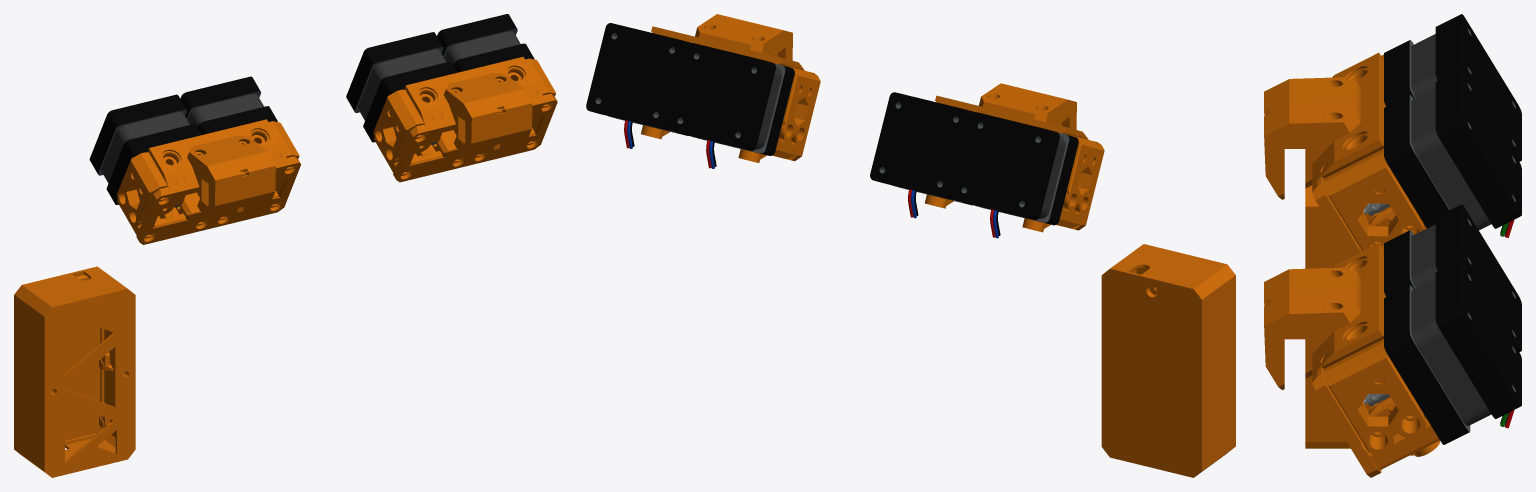
The model's file is MK2MMU_Base.obj.
3 views of the same model, side by side, from view 1: azimuth 30°, elevation 25°; view 2: azimuth 150°, elevation 25°; view 3: azimuth 270°, elevation 25° (orthographic). The views are drawn at different scales.
Parts seen in each view (by area): view 1: i3_mk2; view 2: i3_mk2; view 3: i3_mk2.
Part boxes in pixels (bbox=[...]): i3_mk2: bbox=[14, 14, 557, 477]; i3_mk2: bbox=[586, 14, 1235, 477]; i3_mk2: bbox=[1264, 14, 1521, 477].
Size of the model in its own units: 0.3091 by 0.1722 by 0.0873.
